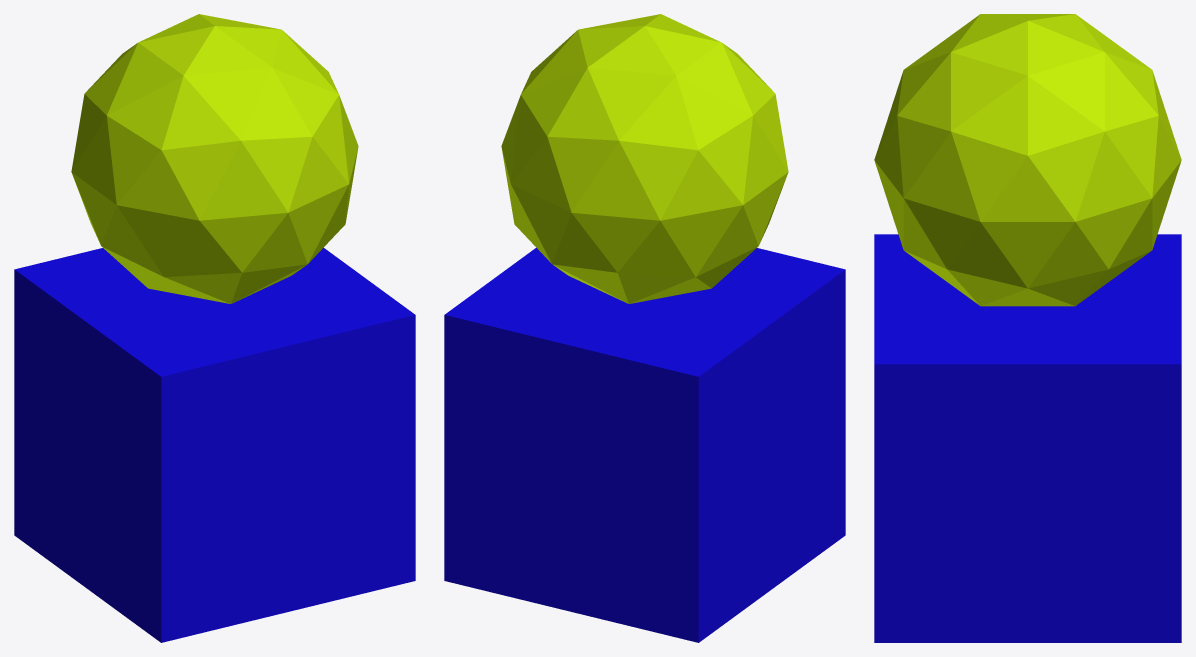
The model's file is teste.glb.
3 renders of one model, left to right at view 1: azimuth 30°, elevation 25°; view 2: azimuth 150°, elevation 25°; view 3: azimuth 270°, elevation 25°, orthographic. The views are drawn at different scales.
Parts seen in each view (by area): view 1: Cube, Icosphere; view 2: Cube, Icosphere; view 3: Cube, Icosphere.
Part boxes in pixels (x1=…): Cube: x1=14, y1=247, x2=415, y2=642; Icosphere: x1=71, y1=14, x2=358, y2=303; Cube: x1=444, y1=247, x2=845, y2=642; Icosphere: x1=501, y1=14, x2=788, y2=303; Cube: x1=874, y1=234, x2=1181, y2=642; Icosphere: x1=874, y1=14, x2=1181, y2=306.
Bounding box in the file's own units: 2 × 4 × 2.
